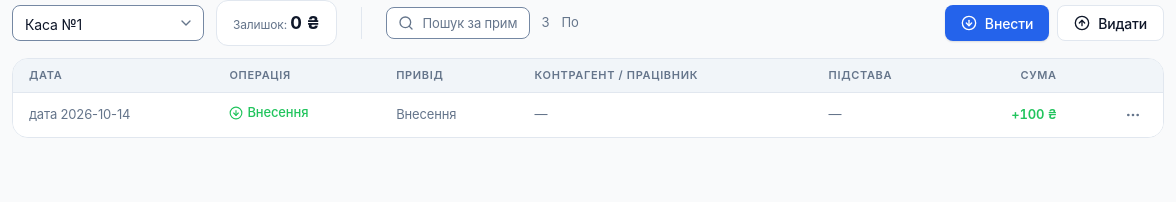
CashOperationsTab — дія «Сторнувати» › власник / адміністратор / бухгалтер: кнопка в рядку звичайної операції
The width and height of the screenshot is (1176, 202).
Click the button named "Дії рядка". click: [1133, 114]
box: [1119,100,1147,128]
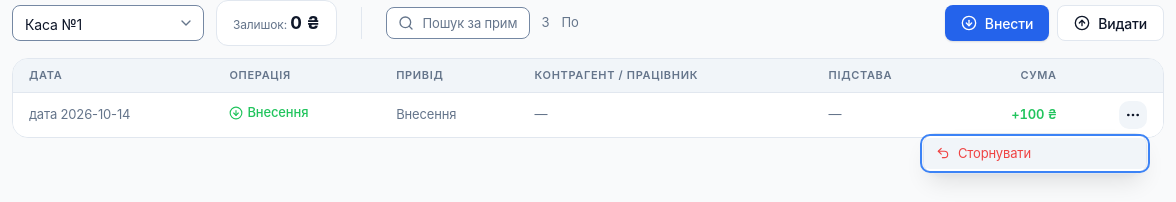
Expected: the menu item "Сторнувати" is shown, [924,138,1146,169]
